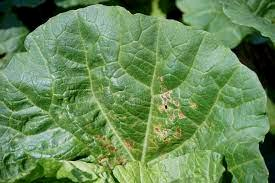Bok-Choy-Diseased: (26, 62, 265, 183)
